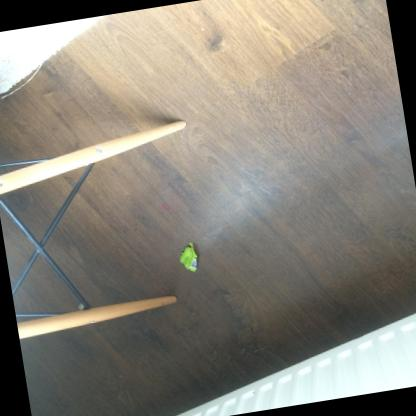Plastic: (178, 241, 196, 270)
